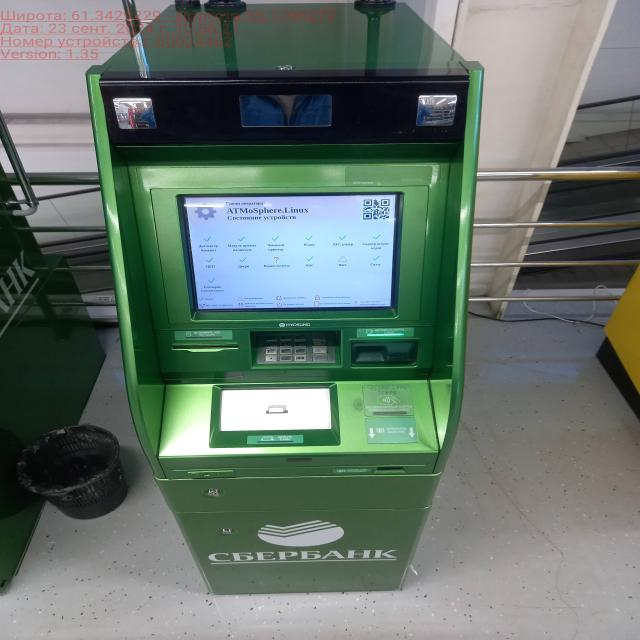bank: (88, 0, 486, 595)
